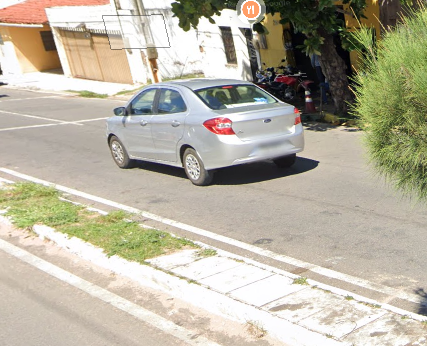car: (100, 63, 303, 190)
